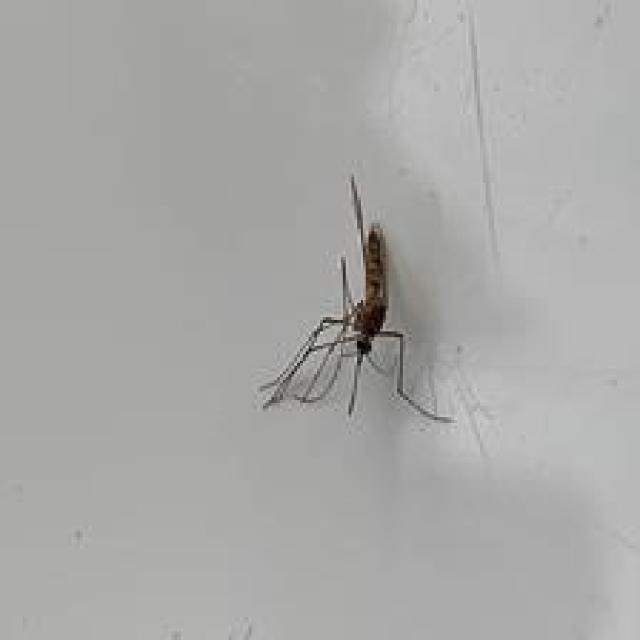Culex: (257, 173, 457, 424)
